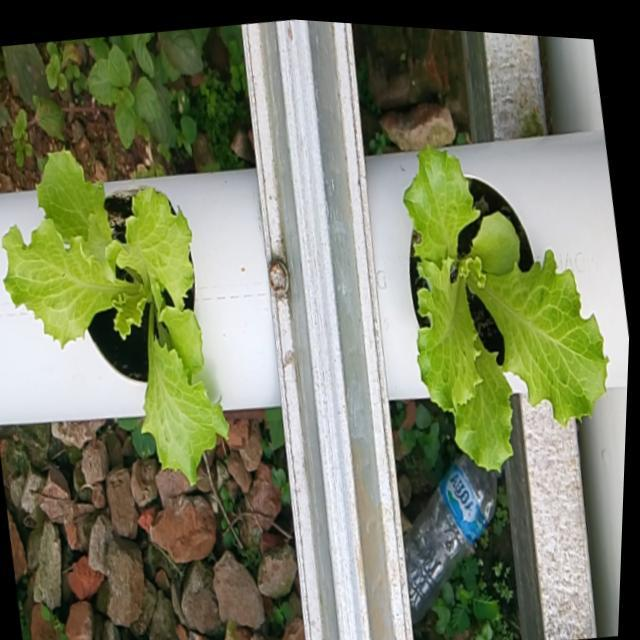Baby: (2, 150, 229, 485), (403, 145, 608, 472)
